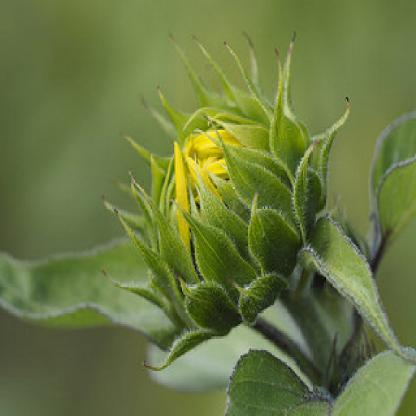SUN FLOWER: (68, 11, 389, 400)
